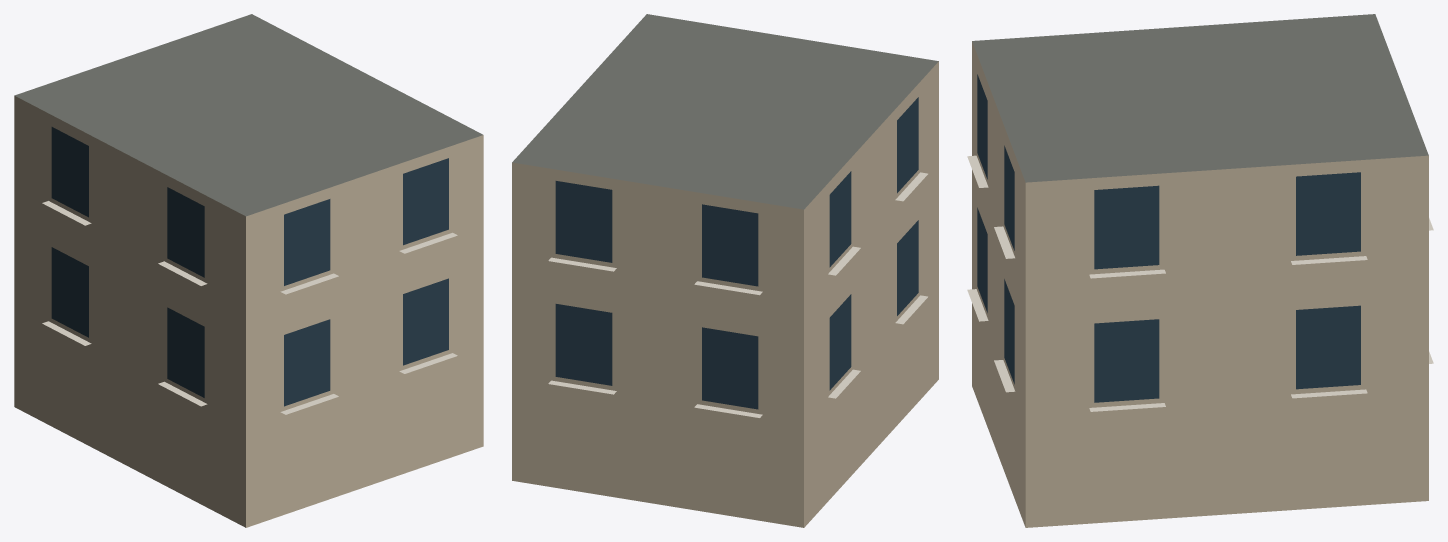
3 renders of one model, left to right at view 1: azimuth 30°, elevation 25°; view 2: azimuth 150°, elevation 25°; view 3: azimuth 270°, elevation 25°, orthographic. The views are drawn at different scales.
Visible parts, largest first — view 1: Footprint 0, Inferred window bays, Window sills; view 2: Footprint 0, Inferred window bays, Window sills; view 3: Footprint 0, Inferred window bays, Window sills.
Boxes of the visible parts, box(x1,y1,x2,y2) form: Footprint 0: box(14, 14, 483, 527); Inferred window bays: box(51, 127, 448, 406); Window sills: box(42, 201, 457, 414); Footprint 0: box(512, 14, 938, 527); Inferred window bays: box(555, 97, 918, 409); Window sills: box(548, 172, 927, 417); Footprint 0: box(972, 14, 1428, 527); Inferred window bays: box(977, 74, 1360, 402); Window sills: box(967, 155, 1433, 411).
Bounding box in the file's own units: 7.61 × 7.18 × 8.8.
